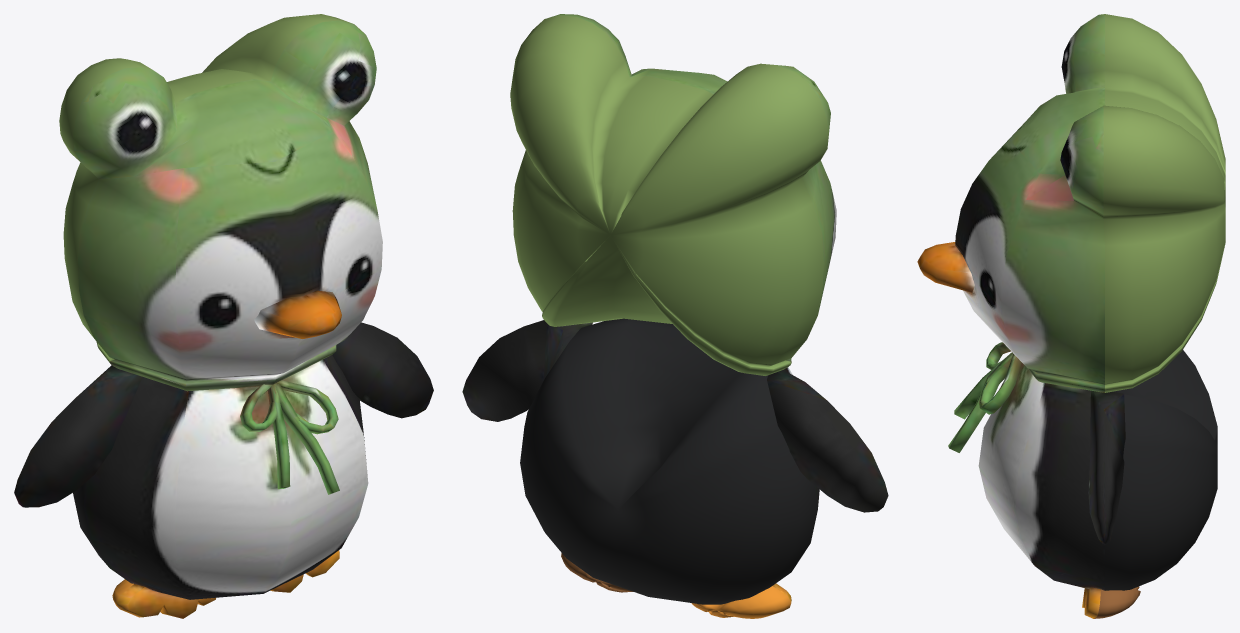
File: penguin-04-22-frog-hat-crochet-penguin.gltf
The picture shows the model from 3 angles, left to right: view 1: azimuth 30°, elevation 25°; view 2: azimuth 150°, elevation 25°; view 3: azimuth 270°, elevation 25°; orthographic projection. The views are drawn at different scales.
Visible parts, largest first — view 1: penguin-04-22-frog-hat-crochet-penguin; view 2: penguin-04-22-frog-hat-crochet-penguin; view 3: penguin-04-22-frog-hat-crochet-penguin.
Boxes of the visible parts, x1=… form: penguin-04-22-frog-hat-crochet-penguin: x1=14, y1=14, x2=433, y2=618; penguin-04-22-frog-hat-crochet-penguin: x1=462, y1=14, x2=888, y2=618; penguin-04-22-frog-hat-crochet-penguin: x1=917, y1=14, x2=1225, y2=618.
Bounding box in the file's own units: 0.2 × 0.2528 × 0.1357.
Materials: 1 (1 with a texture image).
